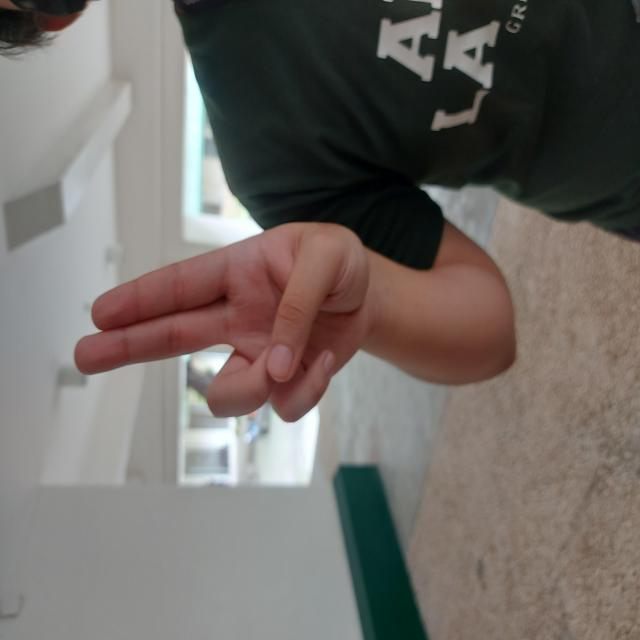U: (214, 70, 421, 367)
